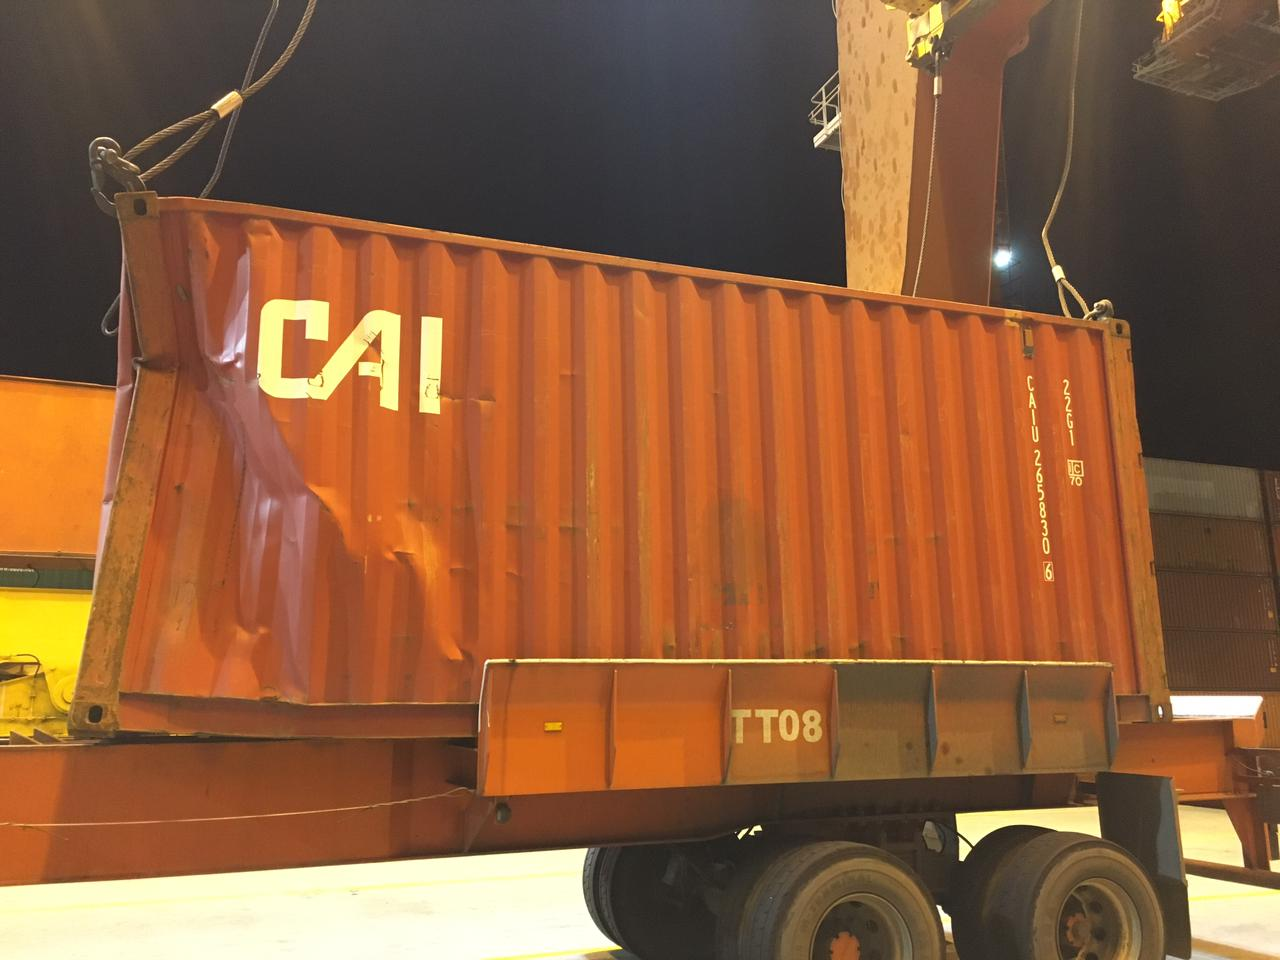bulged: (300, 489, 474, 642), (212, 226, 288, 451)
dented: (111, 214, 181, 537)
